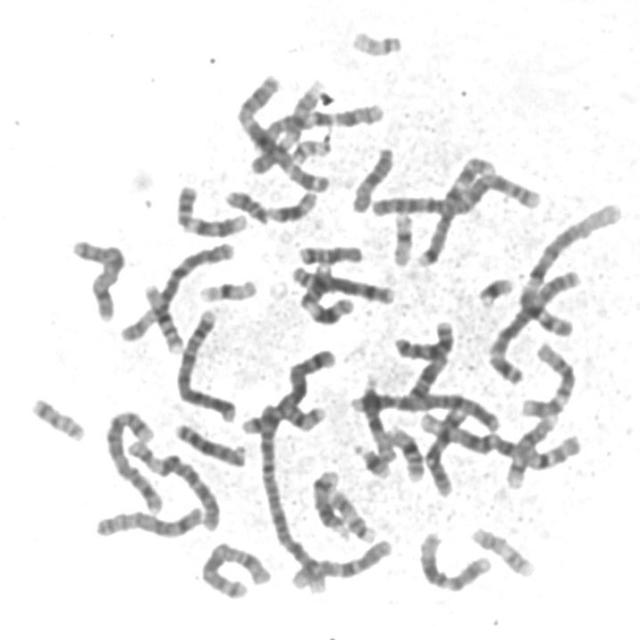A1: (516, 199, 624, 342), (416, 404, 586, 471)
A2: (253, 395, 331, 595), (364, 167, 544, 220)
A3: (482, 263, 584, 387), (235, 70, 332, 194)
B4: (170, 302, 238, 423), (348, 384, 504, 432)
B5: (236, 342, 338, 437), (100, 403, 166, 514)
C10: (284, 532, 395, 592), (418, 399, 470, 498)
C11: (219, 181, 321, 225), (292, 258, 357, 327)
C12: (412, 524, 493, 594), (516, 336, 578, 419)
C6: (112, 236, 236, 346), (120, 432, 222, 534)
C7: (411, 150, 495, 268), (250, 96, 386, 155)
C8: (285, 259, 398, 307), (88, 500, 206, 541)
C9: (245, 76, 329, 178), (170, 178, 250, 240)
D13: (401, 314, 457, 408), (169, 416, 248, 469)
D14: (503, 412, 557, 489), (306, 462, 351, 542)
D15: (345, 140, 397, 215), (357, 372, 397, 464)
E16: (137, 276, 185, 355), (383, 419, 427, 484)
E17: (466, 520, 537, 580), (325, 484, 377, 544)
E18: (388, 314, 456, 362), (293, 238, 365, 266)
F19: (193, 271, 260, 304), (386, 206, 416, 268)
F20: (24, 389, 88, 444)
G21: (349, 438, 393, 480), (471, 269, 516, 310)
G22: (345, 22, 405, 58), (285, 130, 334, 166)
X: (64, 232, 128, 324), (195, 536, 274, 602)
